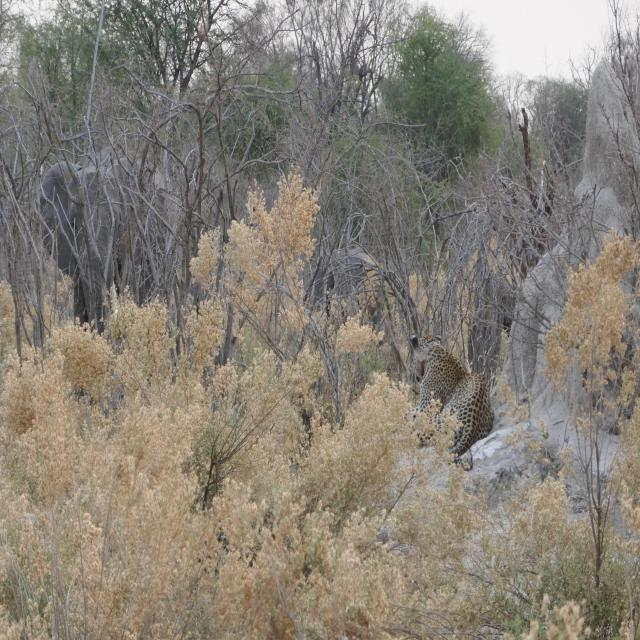Leopard: (402, 332, 495, 472)
